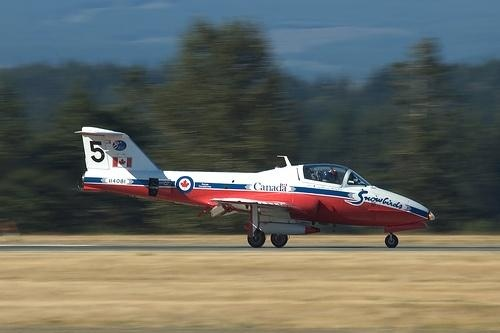aeroplane: (75, 126, 436, 250)
